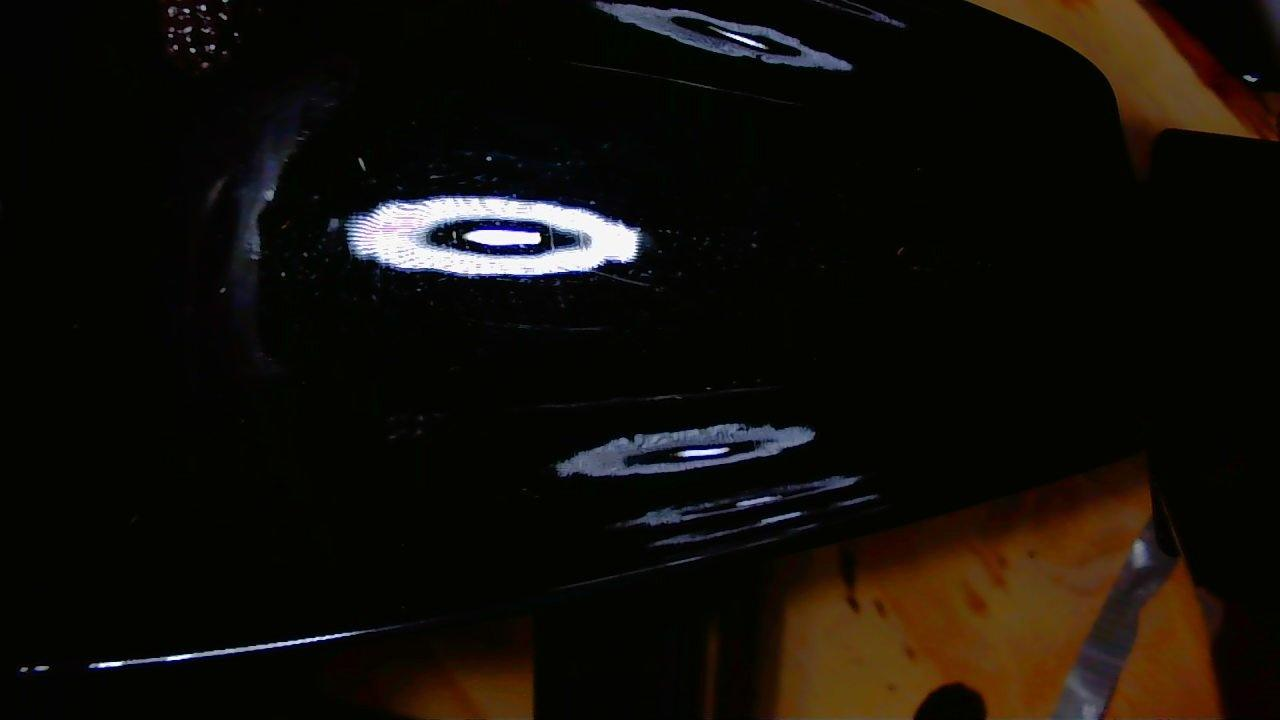berry: (162, 0, 237, 72)
